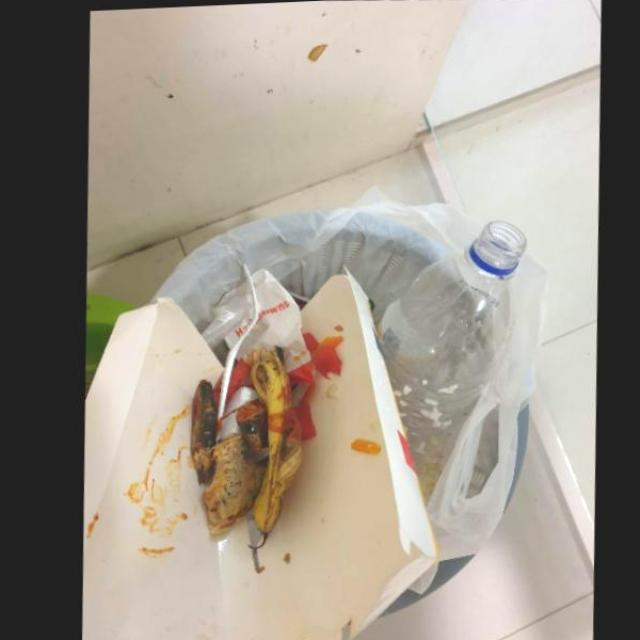carton: (79, 267, 436, 640)
chai_nhua_pet: (374, 218, 527, 500)
giay: (209, 260, 312, 382)
thuc_an_thua: (188, 375, 267, 530), (301, 328, 342, 376)
vo_trai_cay: (244, 342, 300, 570)
